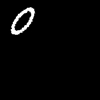chain: (11, 8, 34, 33)
